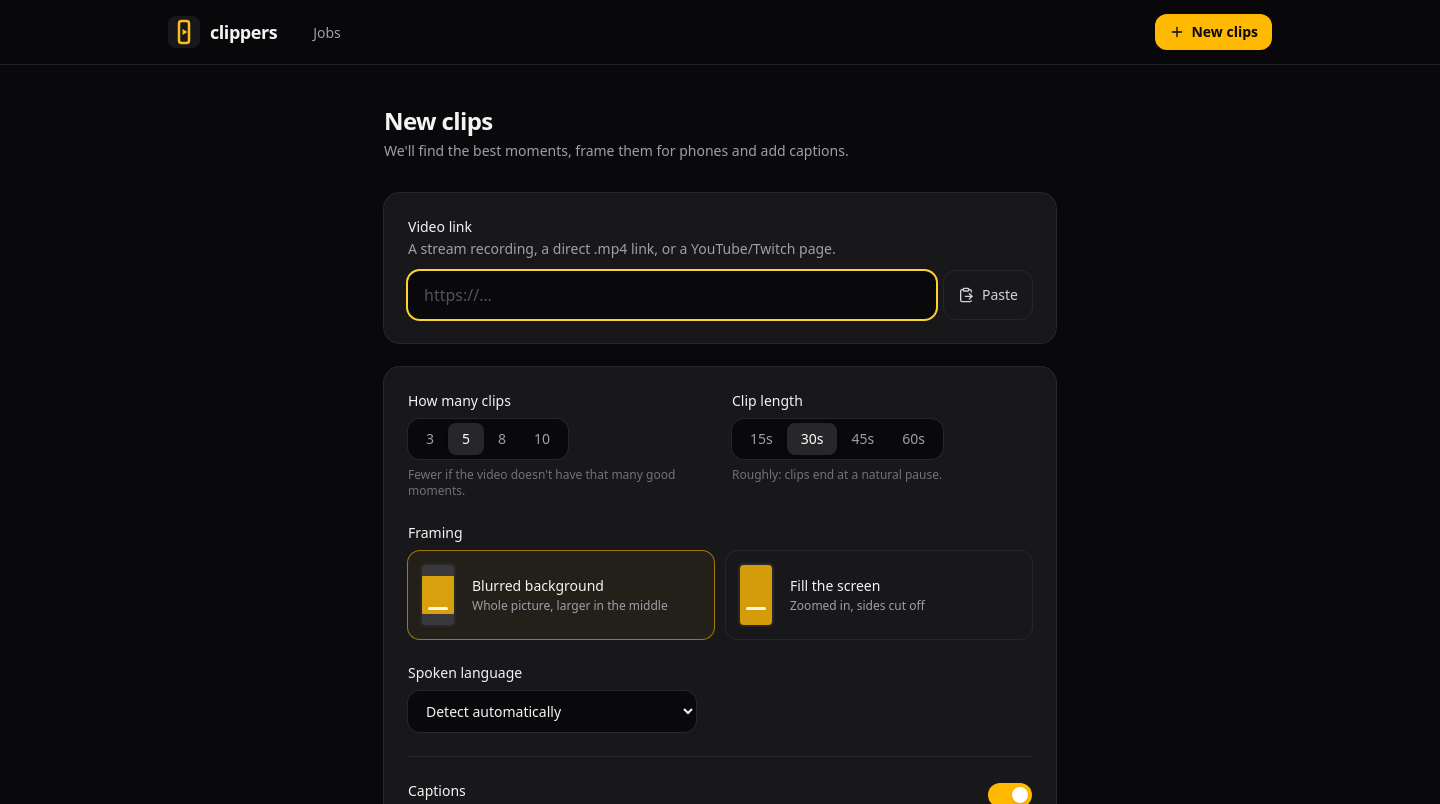
New clips page › shows the API's reason under the link field
Type "https://intranet.local/v.mp4" into the field labelled "Video link" at point(672, 295), box [408,271,936,319]
(page scrolled)
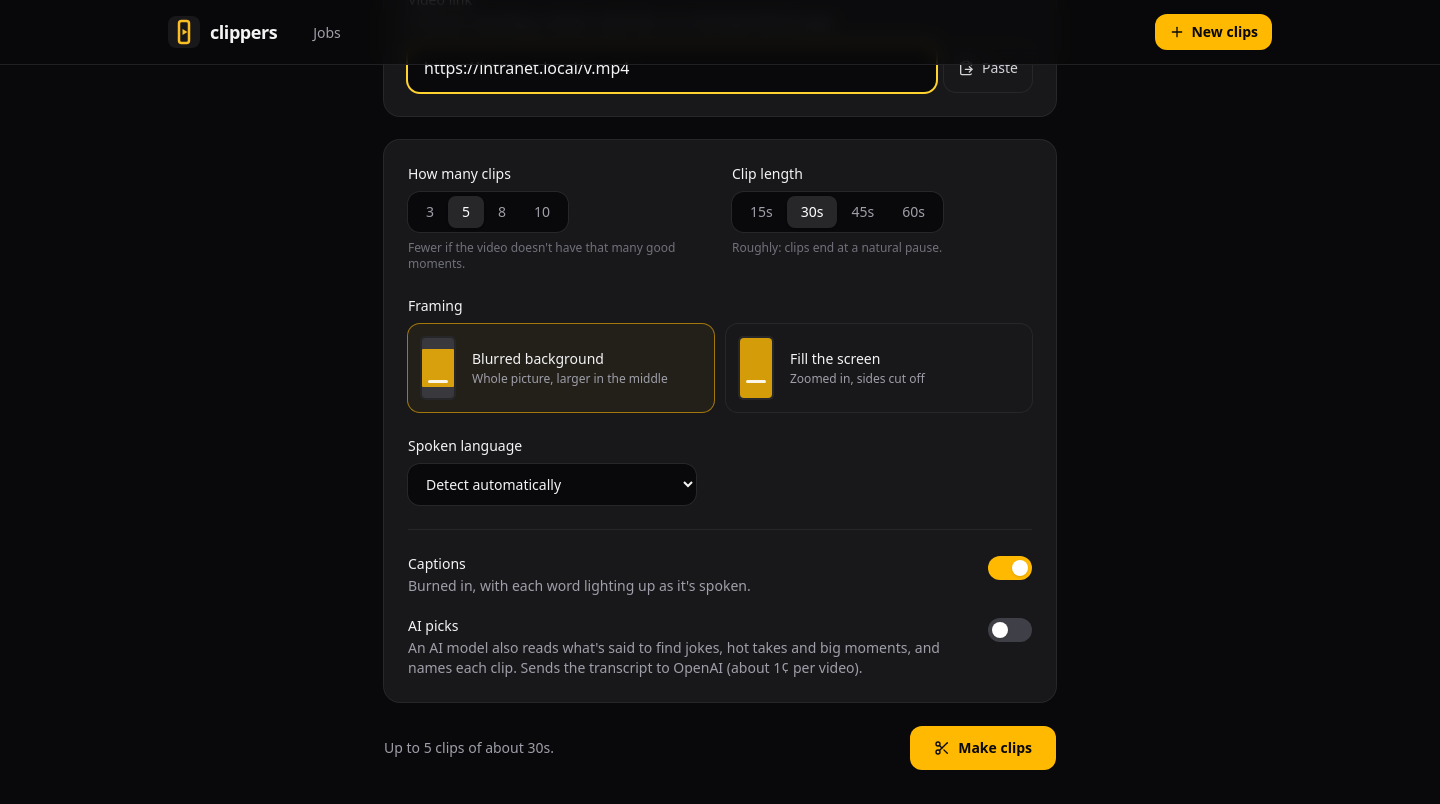
Click the button "Make clips" at point(983, 748), box [910,726,1056,770]
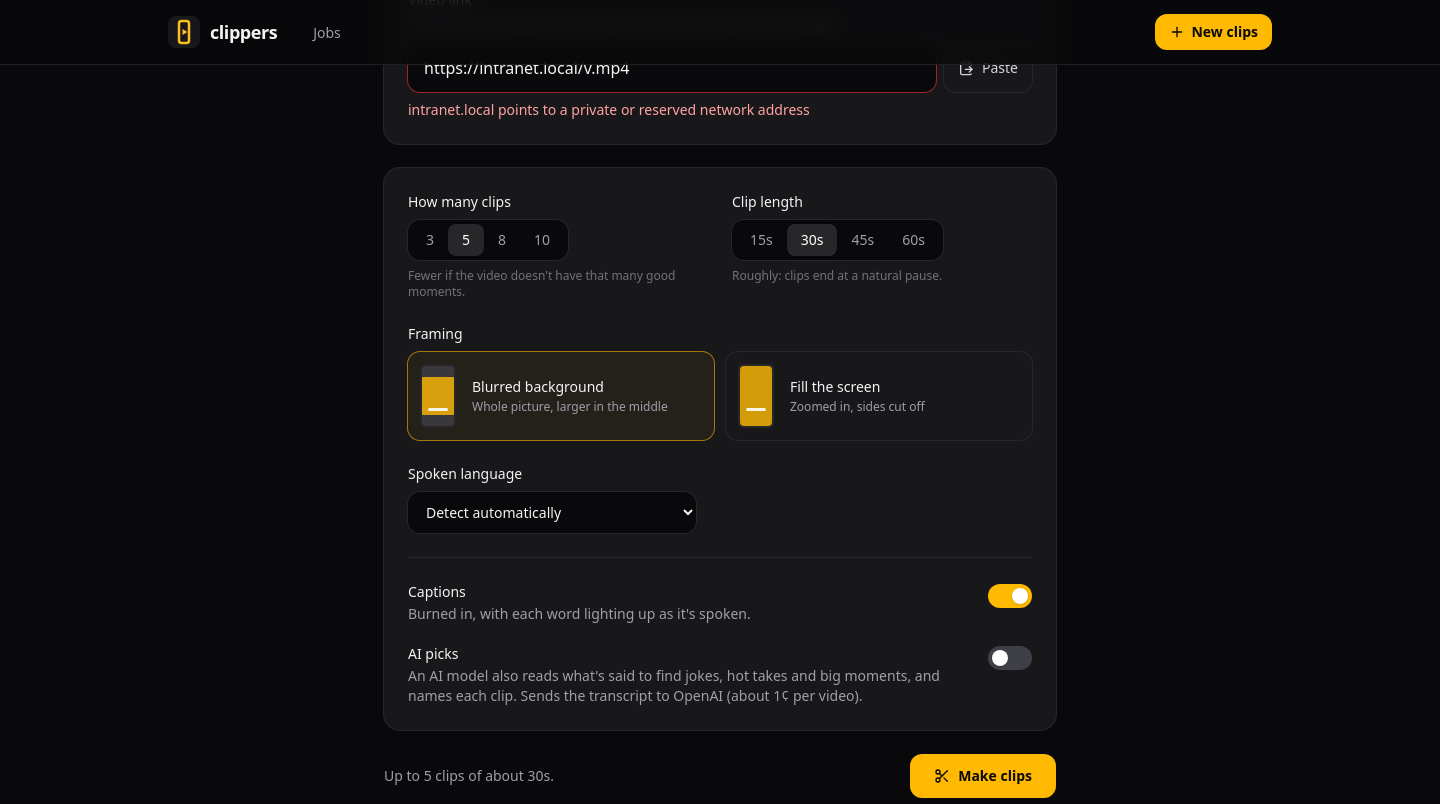
Now the message reads "intranet.local points to a private or reserved network address", box [408,100,810,119]
